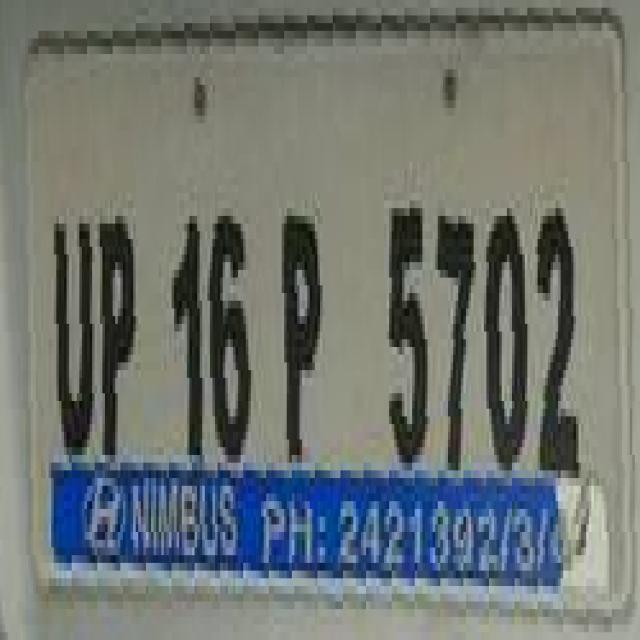license_plate: (13, 8, 640, 509)
